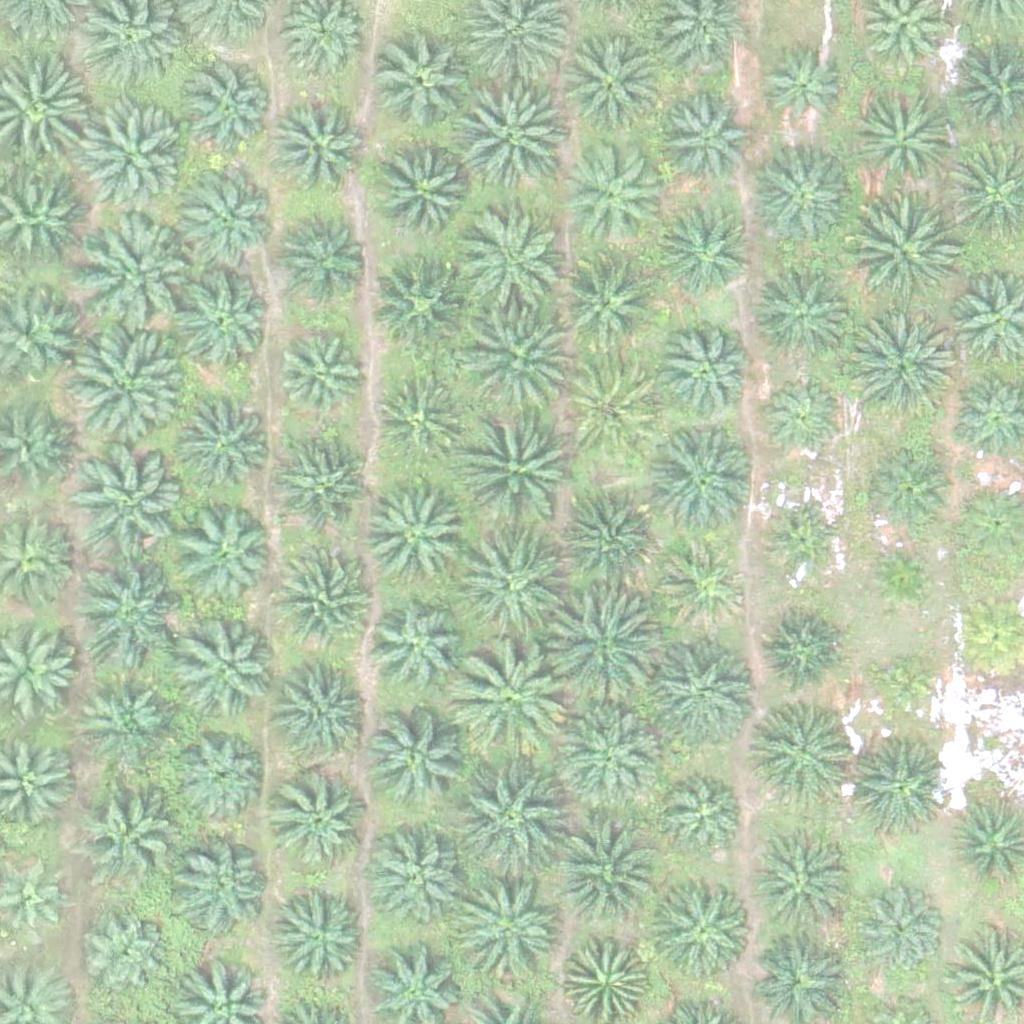Kelapa_Sawit: (451, 530, 564, 644), (460, 302, 573, 416), (456, 877, 569, 990), (455, 761, 568, 874), (844, 309, 957, 422), (845, 197, 958, 310), (454, 210, 567, 323), (460, 81, 573, 194), (68, 330, 181, 443), (81, 214, 194, 327), (72, 100, 185, 213), (556, 698, 668, 812), (462, 405, 574, 519), (69, 557, 181, 670), (453, 644, 565, 757), (543, 592, 655, 705), (548, 813, 660, 926), (646, 633, 758, 746), (645, 423, 757, 536), (75, 446, 187, 559), (372, 31, 472, 132), (75, 669, 175, 770), (78, 780, 178, 881), (172, 503, 272, 604), (270, 771, 370, 872), (271, 547, 371, 648), (368, 598, 468, 699), (366, 708, 466, 809), (652, 875, 752, 976), (754, 839, 854, 940), (845, 737, 945, 838), (852, 90, 952, 191), (750, 150, 850, 251), (752, 263, 852, 364), (654, 322, 754, 423), (560, 140, 660, 241), (557, 250, 657, 351), (273, 435, 373, 536), (172, 268, 272, 369), (170, 394, 270, 495), (175, 63, 275, 163), (564, 33, 664, 133), (177, 622, 277, 722), (168, 839, 268, 939), (271, 887, 371, 987), (278, 658, 378, 758), (362, 489, 462, 589), (365, 826, 465, 926), (558, 493, 658, 593), (751, 701, 851, 801), (563, 359, 663, 459), (374, 141, 474, 241), (374, 255, 474, 355), (277, 206, 377, 306), (269, 97, 369, 197), (178, 170, 278, 270), (82, 912, 170, 1000), (757, 376, 845, 464), (660, 208, 748, 296), (659, 99, 747, 187), (373, 374, 461, 462), (275, 336, 363, 424), (756, 46, 843, 134), (660, 541, 747, 629), (177, 733, 264, 821), (563, 933, 650, 1021), (664, 775, 751, 863), (759, 605, 846, 693), (857, 882, 944, 970), (863, 448, 950, 536), (863, 540, 938, 616), (867, 648, 942, 724), (769, 511, 844, 586)
